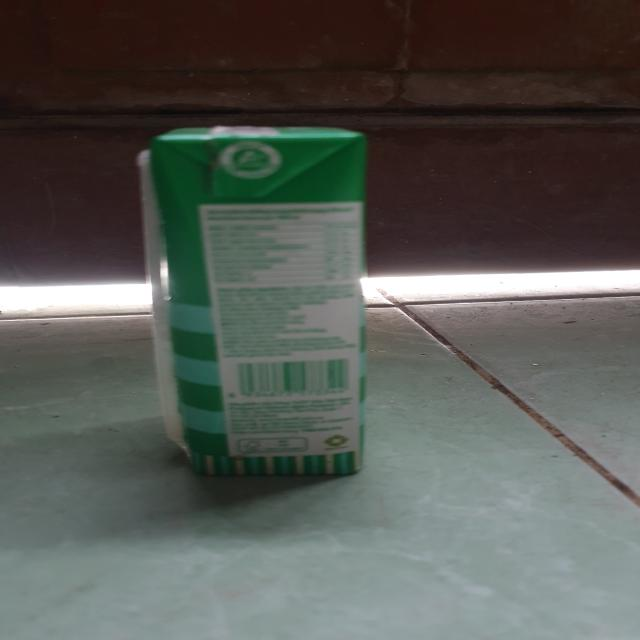Vina: (142, 127, 379, 485)
